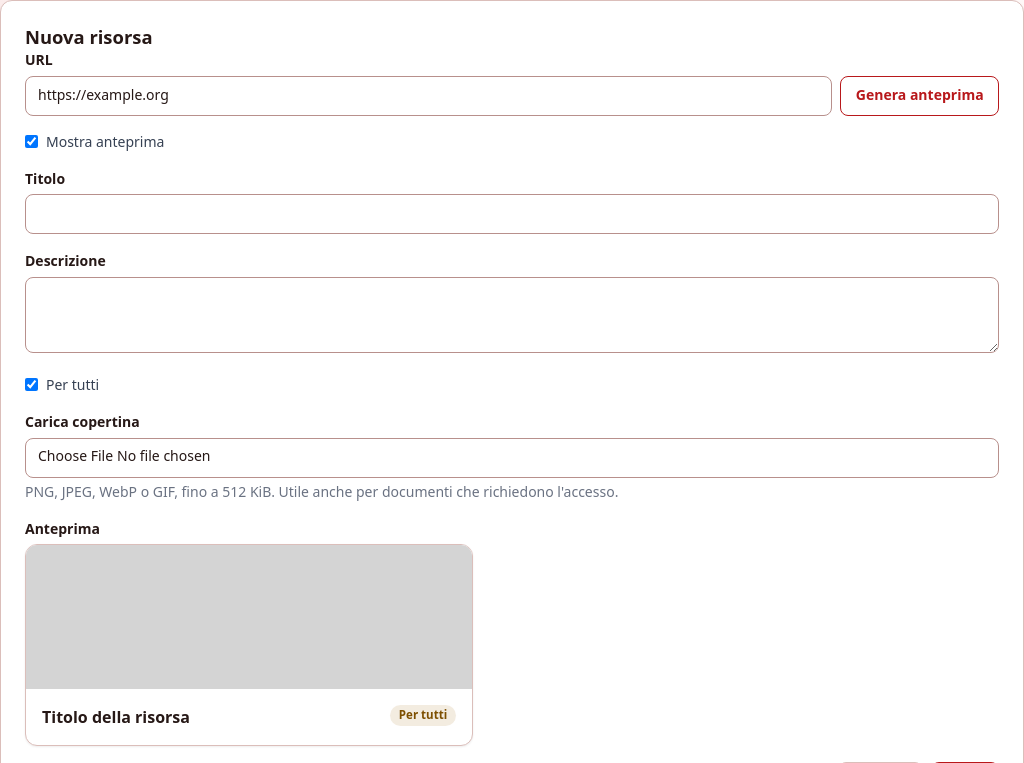
ResourceEditor › explains missing automatic images and keeps an uploaded cover
Click the button "Genera anteprima": (920, 96) [840,76,999,116]
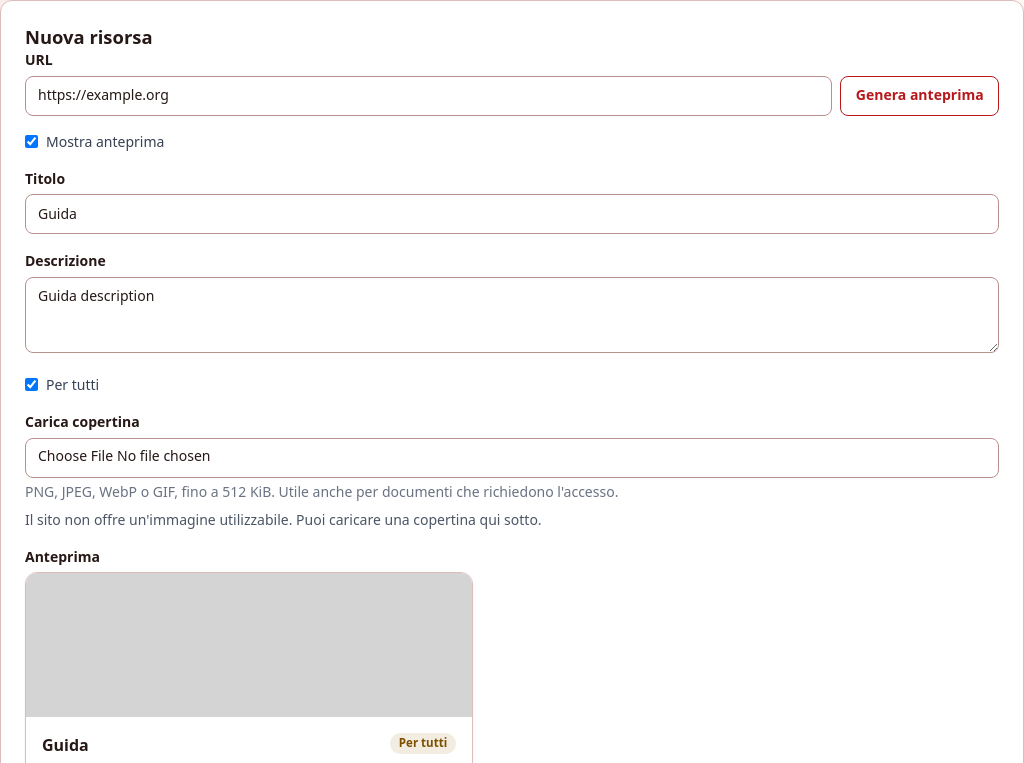
Check: the message shows "non offre un'immagine", box [25,510,542,529]
